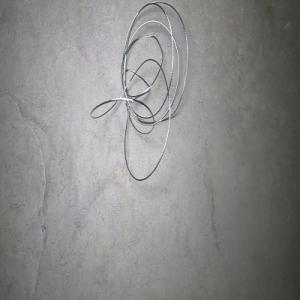Wire: (90, 0, 188, 180)
